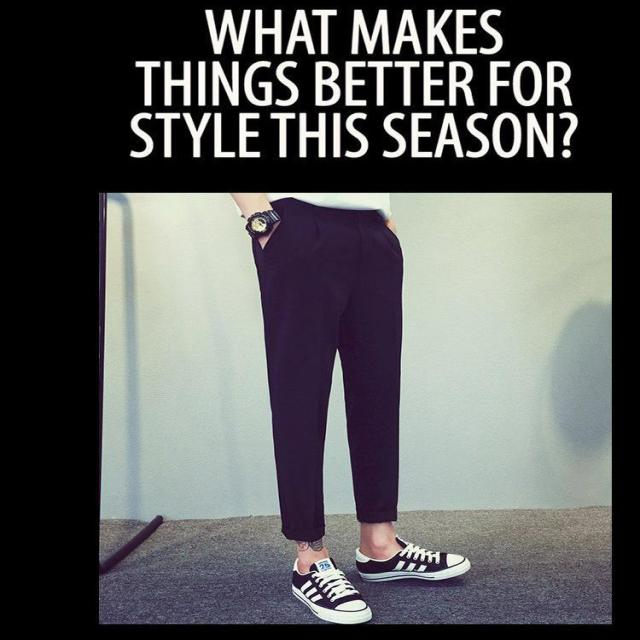trousers: (250, 196, 399, 534)
